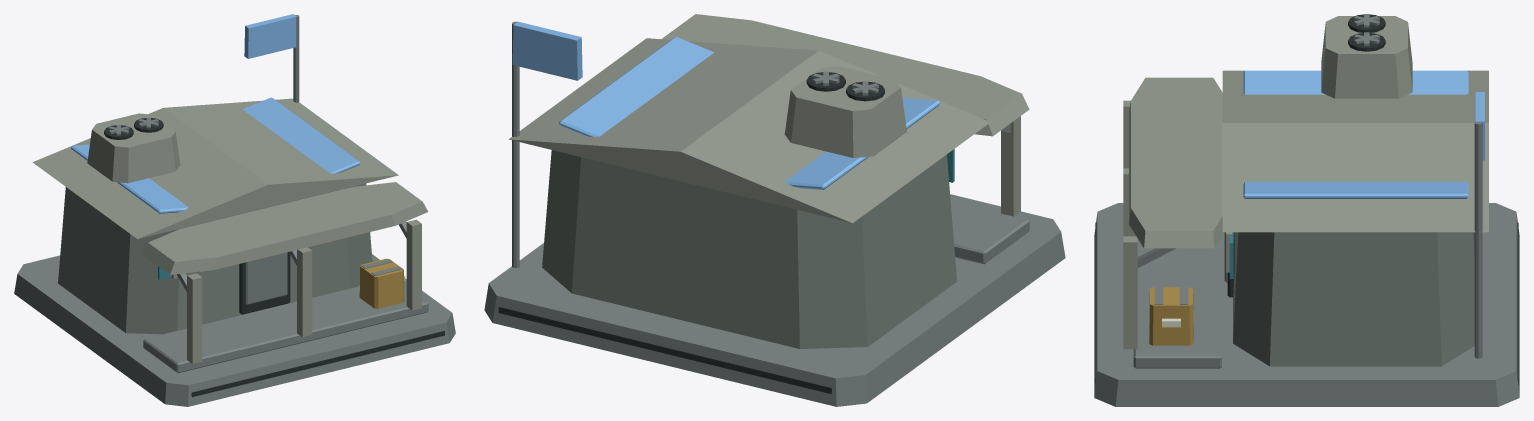
Rendered from barracks.glb.
The picture shows the model from 3 angles, left to right: view 1: azimuth 30°, elevation 25°; view 2: azimuth 150°, elevation 25°; view 3: azimuth 270°, elevation 25°; orthographic projection. The views are drawn at different scales.
Visible parts, largest first — view 1: barracks; view 2: barracks; view 3: barracks.
Boxes of the visible parts, x1,y1,x2,y2 form: barracks: (14, 14, 455, 406); barracks: (484, 14, 1065, 406); barracks: (1094, 14, 1519, 406).
Bounding box in the file's own units: 2.7 × 1.92 × 2.7.
